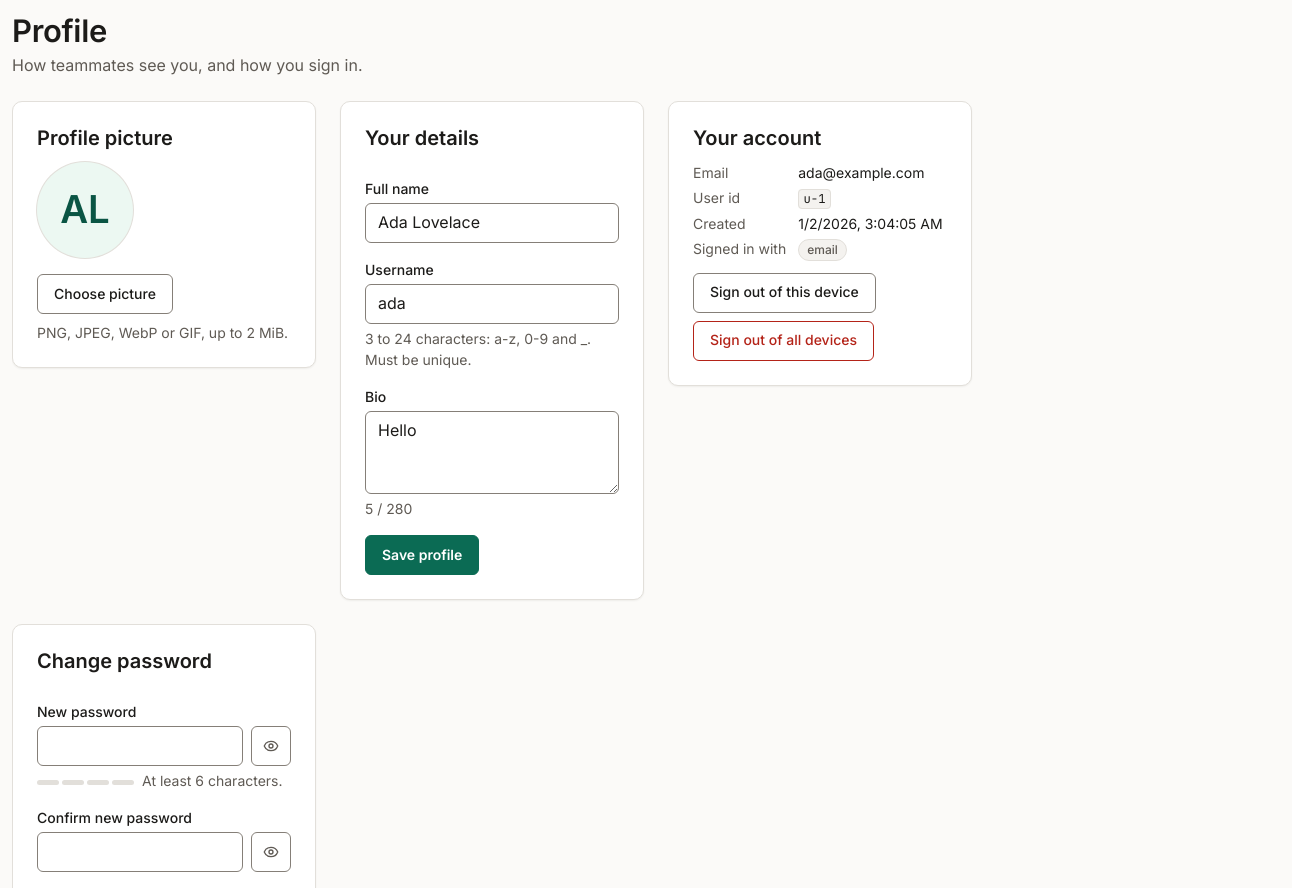
ProfilePage › shows a sign-out error
Click the button "Sign out of all devices" at [784, 341], box x1=693 y1=321 x2=874 y2=361
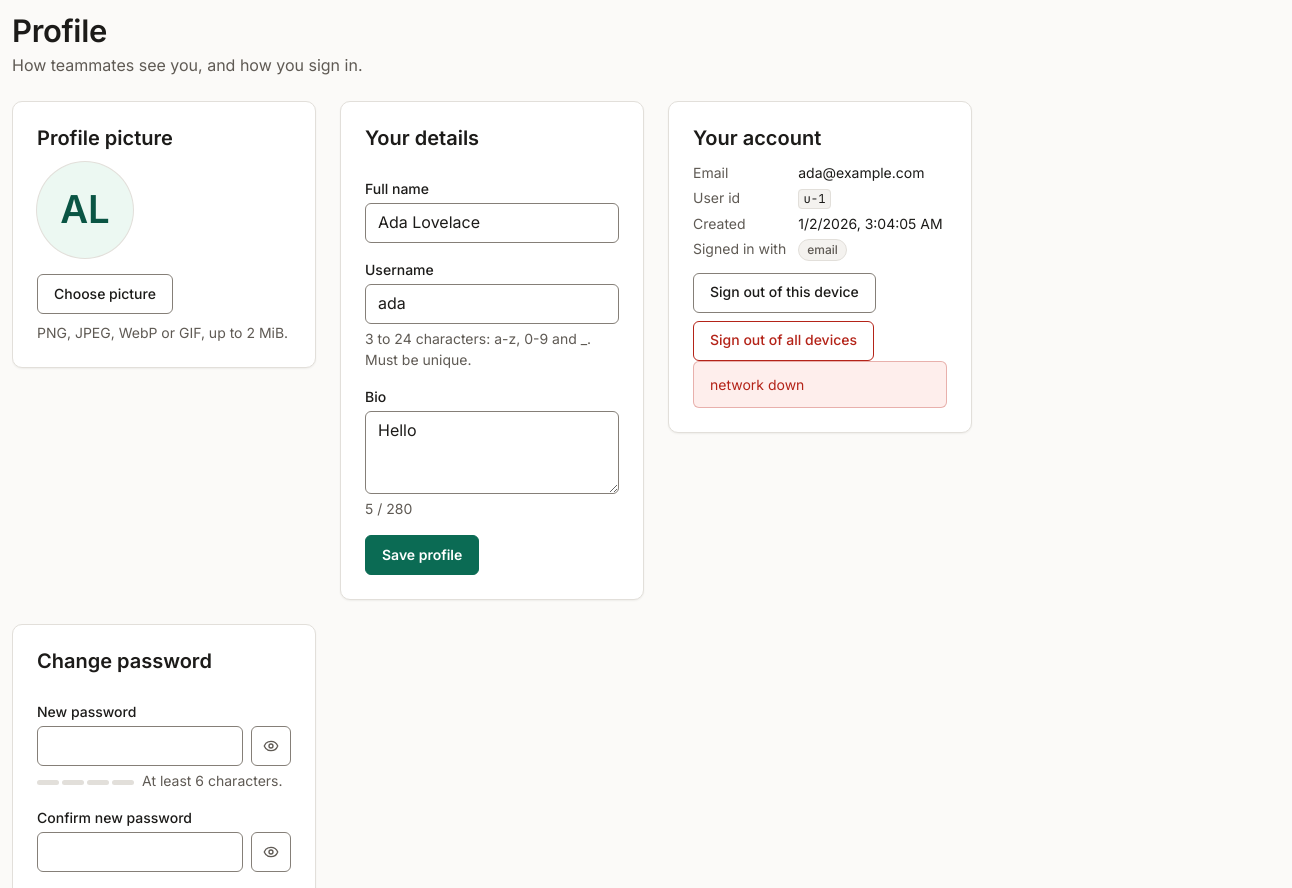
Expected: the message reads "network down", x1=710 y1=376 x2=804 y2=393
